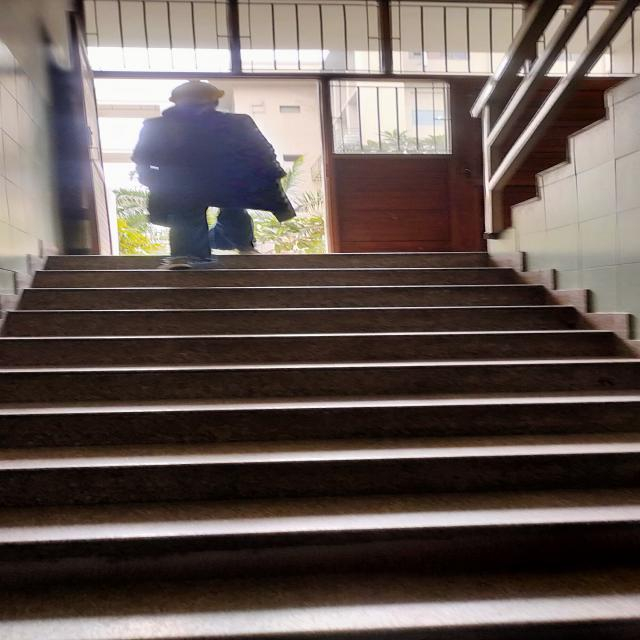no jacket: (135, 81, 293, 270)
